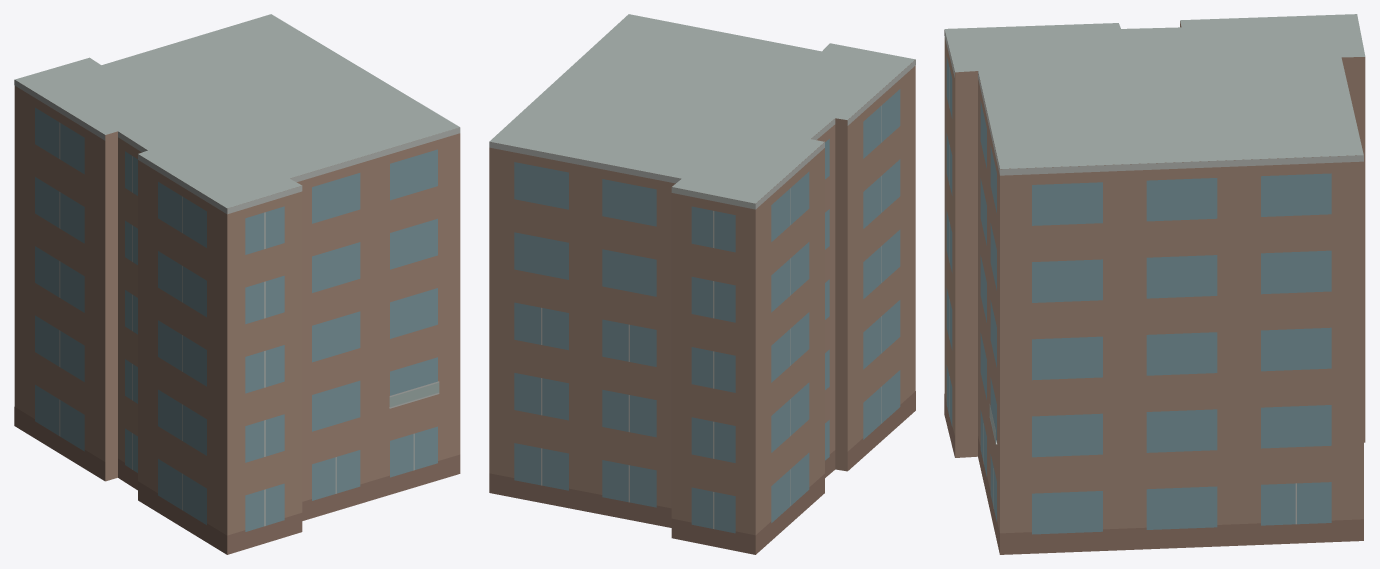
File: survey-upis-32885108.glb
The picture shows the model from 3 angles, left to right: view 1: azimuth 30°, elevation 25°; view 2: azimuth 150°, elevation 25°; view 3: azimuth 270°, elevation 25°; orthographic projection. The views are drawn at different scales.
Parts seen in each view (by area): view 1: survey-upis-32885108.tmp; view 2: survey-upis-32885108.tmp; view 3: survey-upis-32885108.tmp.
Part boxes in pixels (left/top/right/bottom): survey-upis-32885108.tmp: left=14, top=14, right=460, bottom=554; survey-upis-32885108.tmp: left=489, top=14, right=915, bottom=554; survey-upis-32885108.tmp: left=944, top=14, right=1365, bottom=554.
Size of the model in its own units: 12.43 by 14.4 by 14.25.
